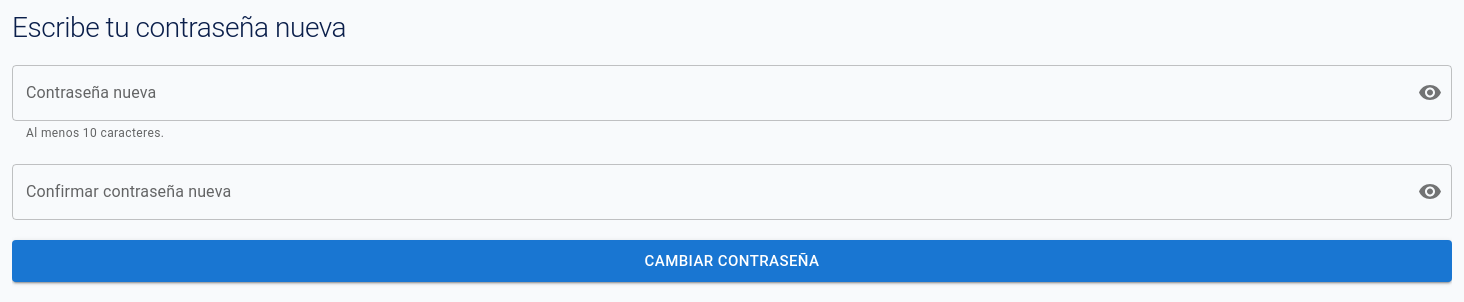
Scenario: FormularioRestablecer › enlace vencido o ya usado (410): no deja reintentar con el mismo enlace
The image size is (1464, 302).
Type "contrasena-nueva-1" into the password field labelled "Contraseña nueva" at (707, 93), box left=12, top=65, right=1402, bottom=121
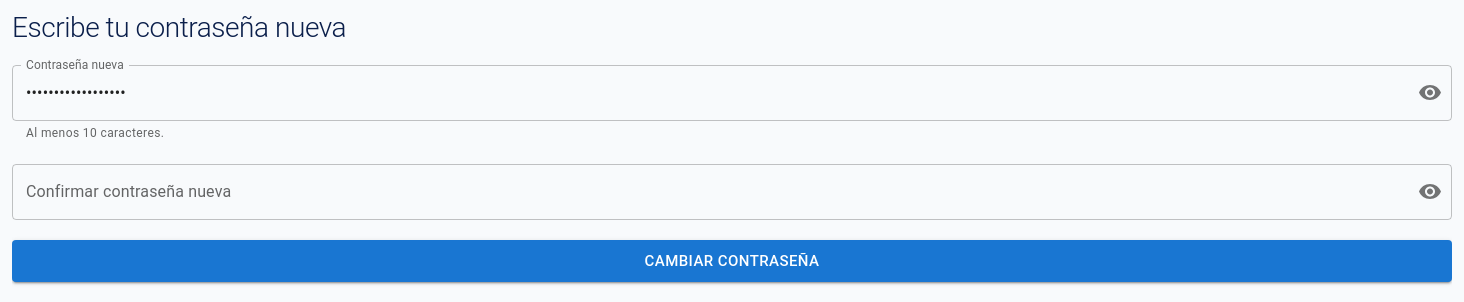
Type "contrasena-nueva-1" into the password field labelled "Confirmar contraseña nueva" at (707, 192), box left=12, top=164, right=1402, bottom=220
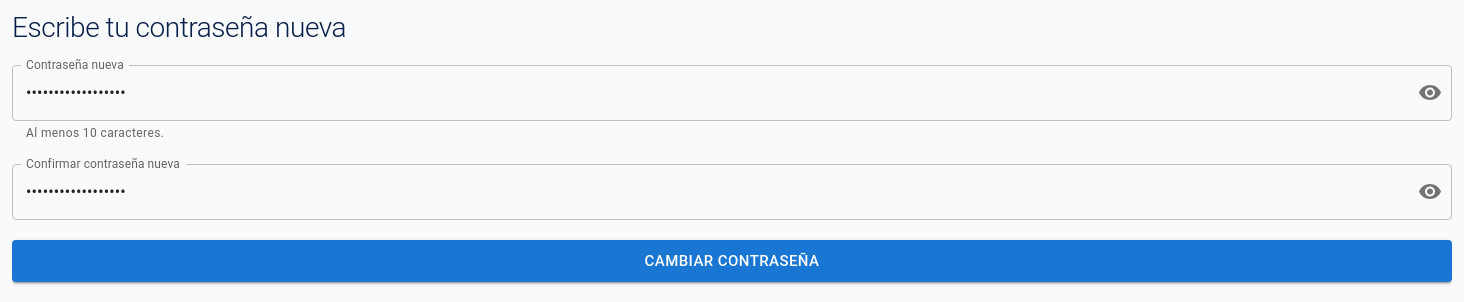
Submit the form named "Cambiar contraseña"
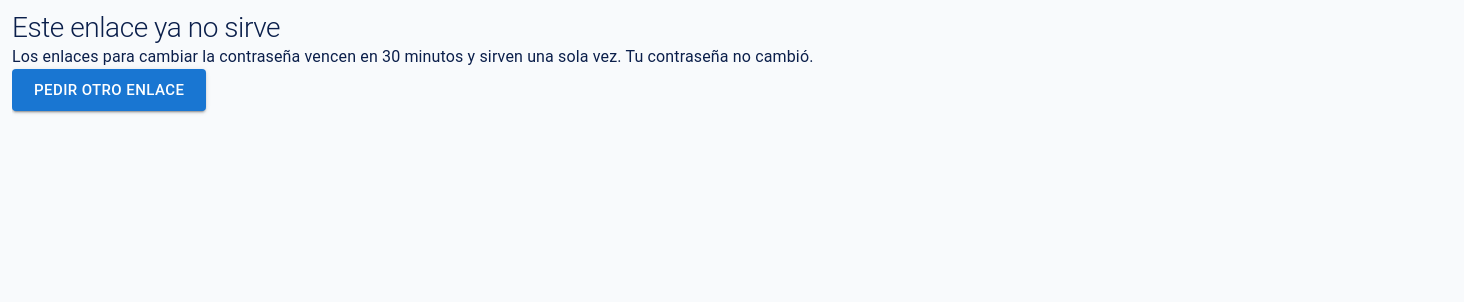
Result: the heading "Este enlace ya no sirve" is shown at left=12, top=11, right=280, bottom=44
Result: the button "Cambiar contraseña" is gone
